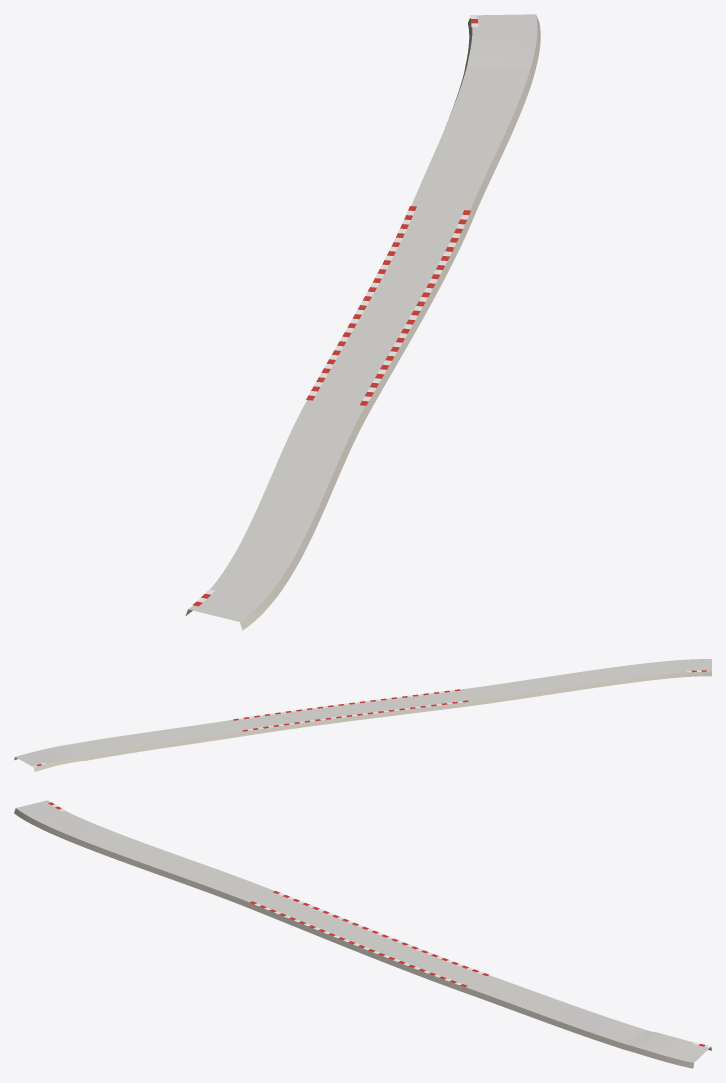
Rendered from SM_RiyadhNights_Shortcut_StadiumCut.fbx.
The picture shows the model from 3 angles, top to bottom: view 1: azimuth 30°, elevation 25°; view 2: azimuth 150°, elevation 25°; view 3: azimuth 270°, elevation 25°; orthographic projection. The views are drawn at different scales.
Visible parts, largest first — view 1: SM_RiyadhNights_Shortcut_StadiumCut; view 2: SM_RiyadhNights_Shortcut_StadiumCut; view 3: SM_RiyadhNights_Shortcut_StadiumCut.
Boxes of the visible parts, x1,y1,x2,y2 form: SM_RiyadhNights_Shortcut_StadiumCut: (185,14,540,630); SM_RiyadhNights_Shortcut_StadiumCut: (14,659,711,771); SM_RiyadhNights_Shortcut_StadiumCut: (14,800,711,1068).
Size of the model in its own units: 18545 by 213 by 20734.
